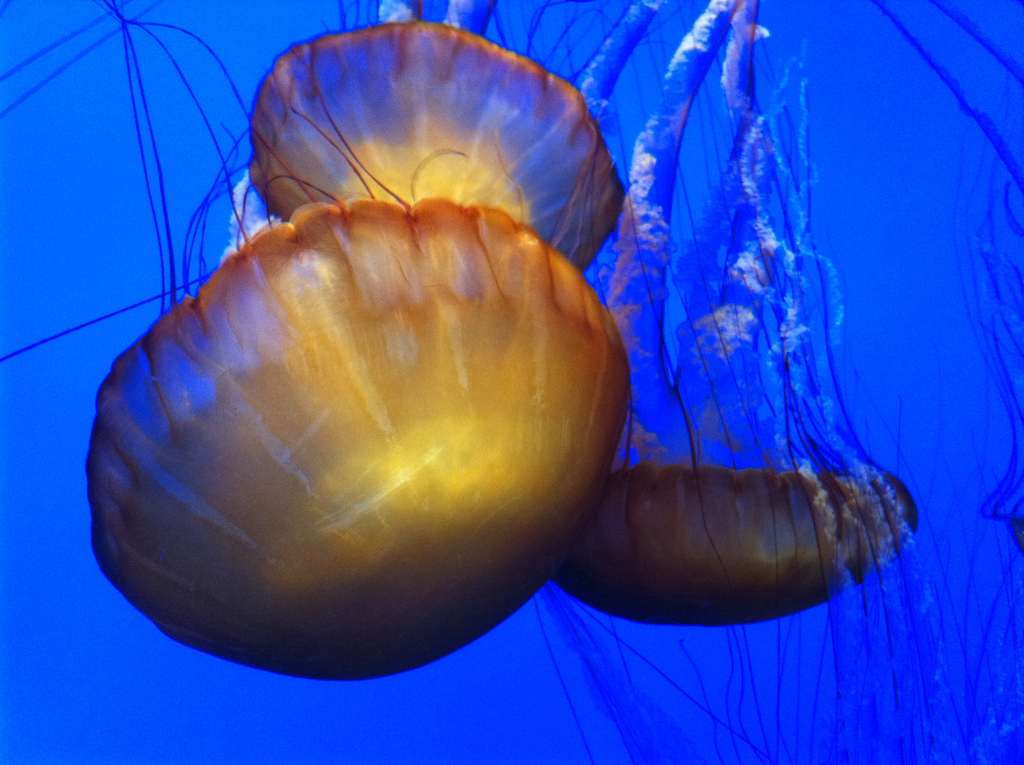Jellyfish: (84, 9, 922, 679)
